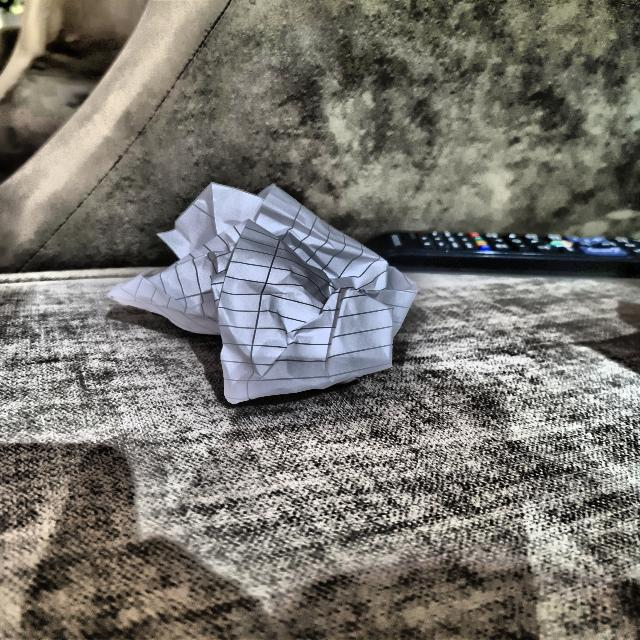Paper: (124, 186, 419, 391)
